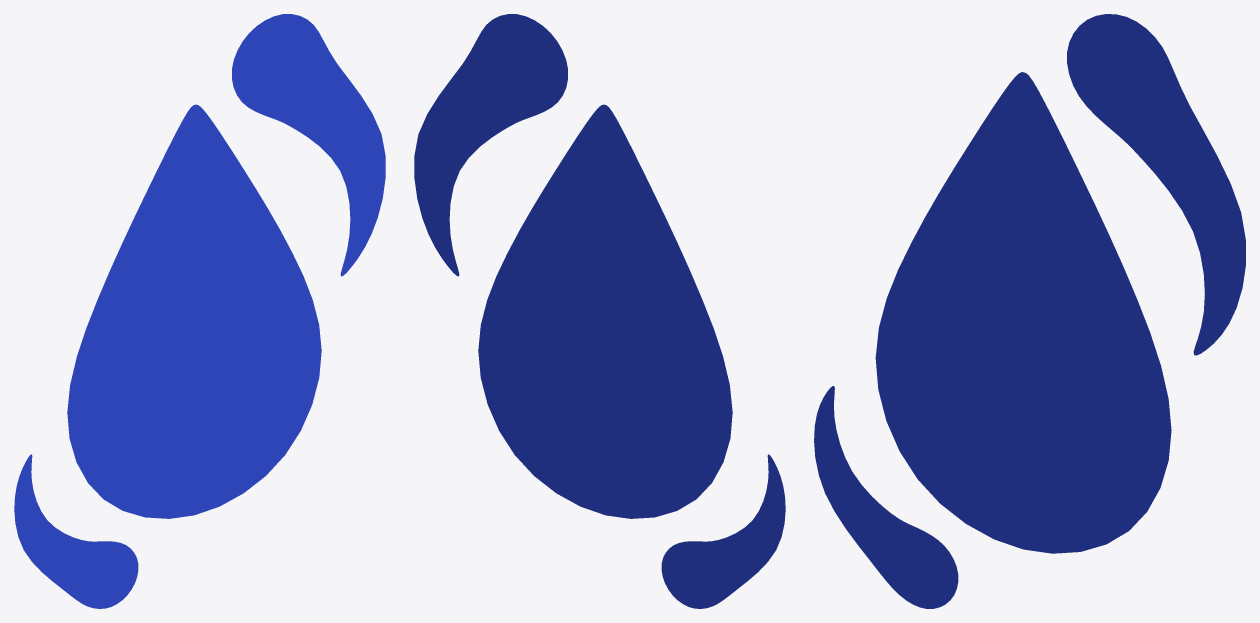
The model's file is watericon1 1.fbx.
3 renders of one model, left to right at view 1: azimuth 30°, elevation 25°; view 2: azimuth 150°, elevation 25°; view 3: azimuth 330°, elevation 25°, orthographic. The views are drawn at different scales.
Parts seen in each view (by area): view 1: Water element icon.001; view 2: Water element icon.001; view 3: Water element icon.001.
Part boxes in pixels (<box>): Water element icon.001: <box>14,14,385,608</box>; Water element icon.001: <box>414,14,785,608</box>; Water element icon.001: <box>814,14,1245,608</box>.
Size of the model in its own units: 113 by 160 by 3.24e-05.
